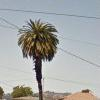Palm tree: (15, 12, 63, 83)
